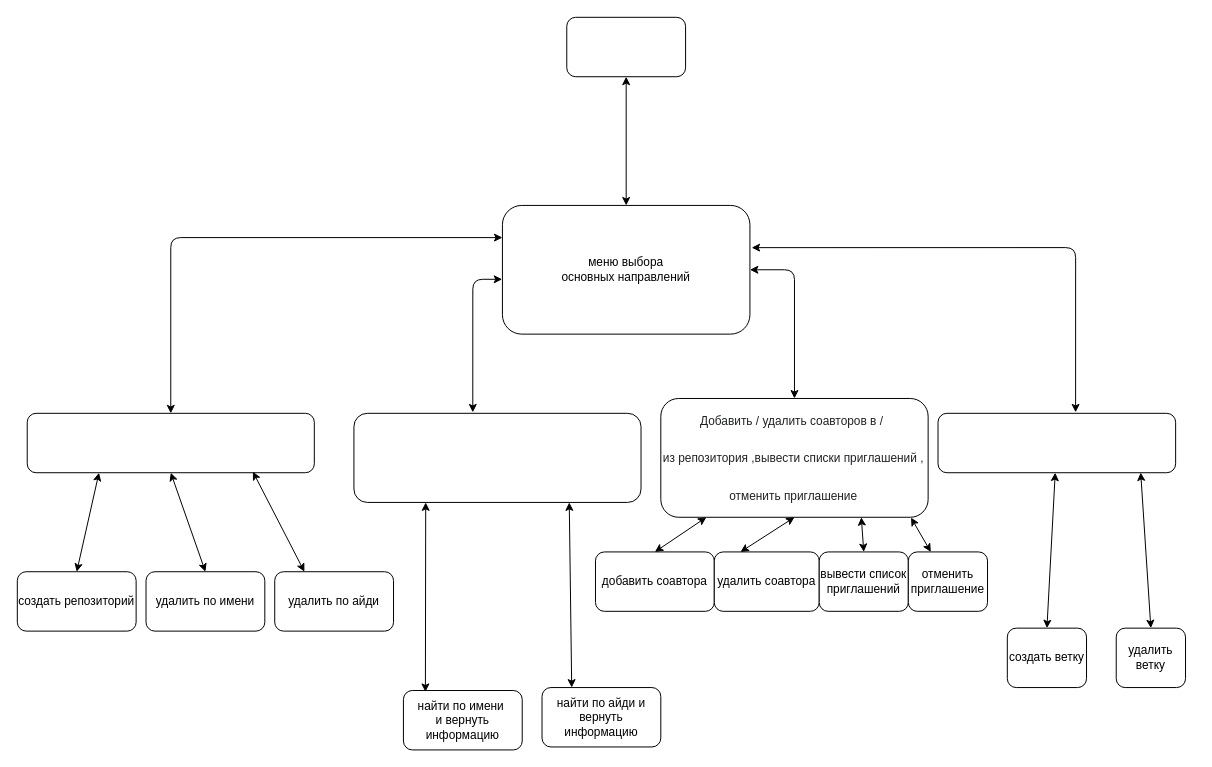
The diagram is 1212 pixels wide and 767 high, and some of its shapes have lost their labels. The centre of each missing label's shape, as x and y in pixels:
Найдите репозиторий с именем / идентификатором и верните основную информацию: (497,457)
Создать / удалить ветку: (1056,442)
Создать / удалить репозиторий с именем /id: (170,442)
стартовое меню идентификация по токену: (626,46)
